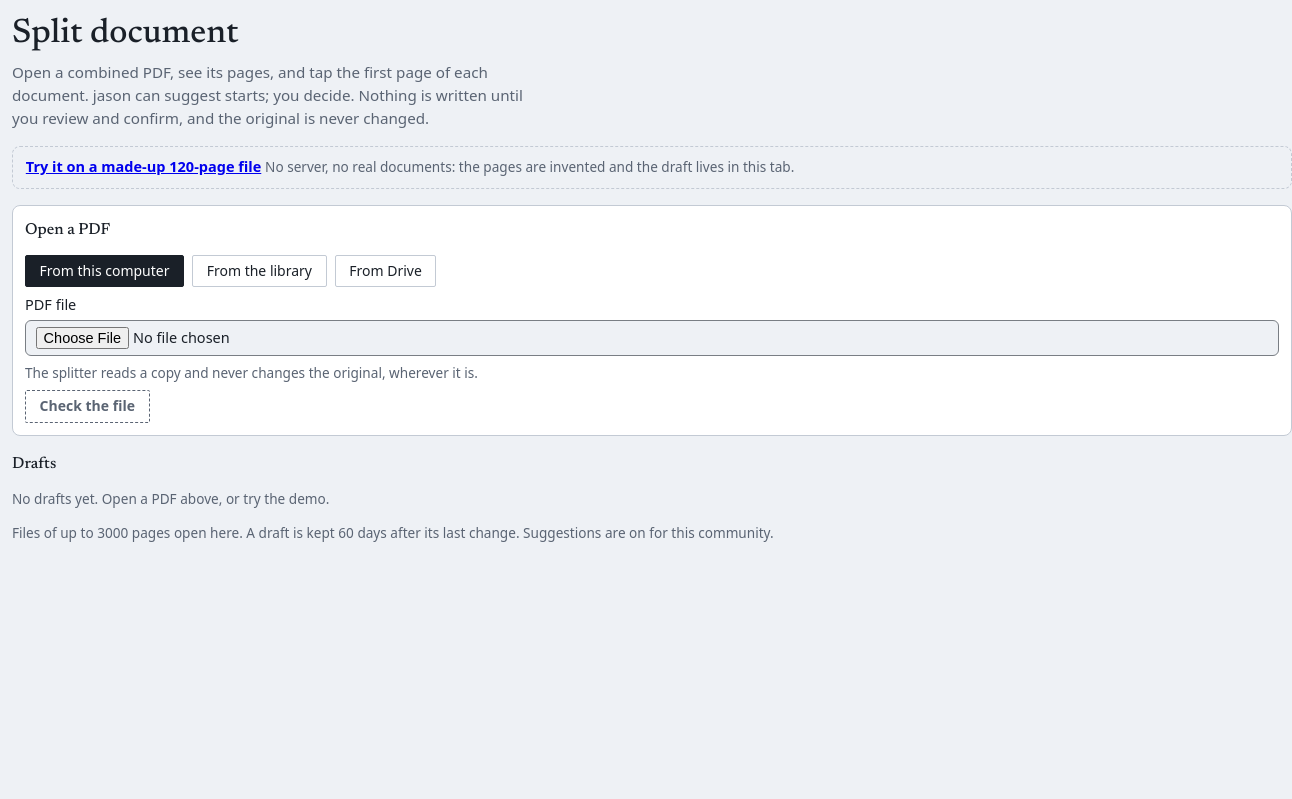
Test case: the button › is on the splitter's From Drive tab
Click the button "From Drive".
click(386, 271)  # box [335,254,436,288]
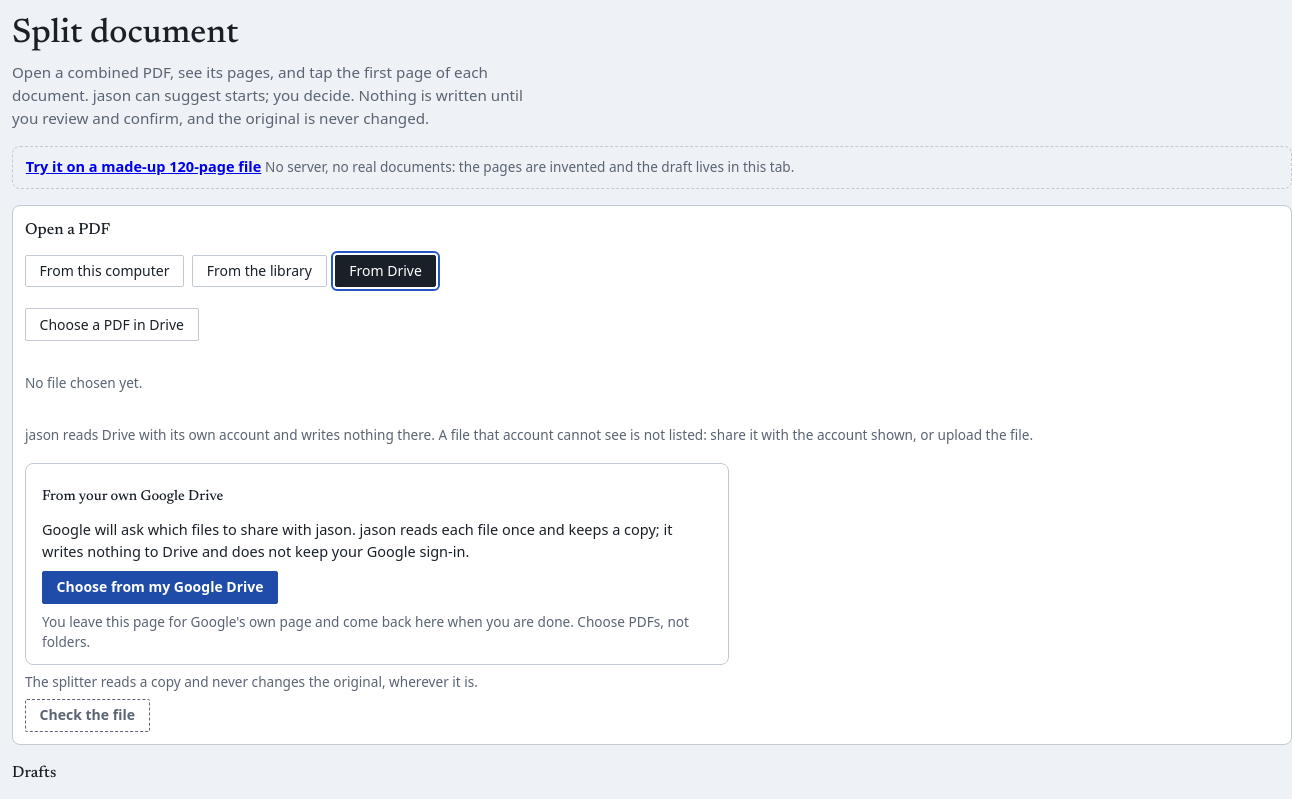
Check: the button "Choose from my Google Drive" is shown, box [42,571,278,604]
